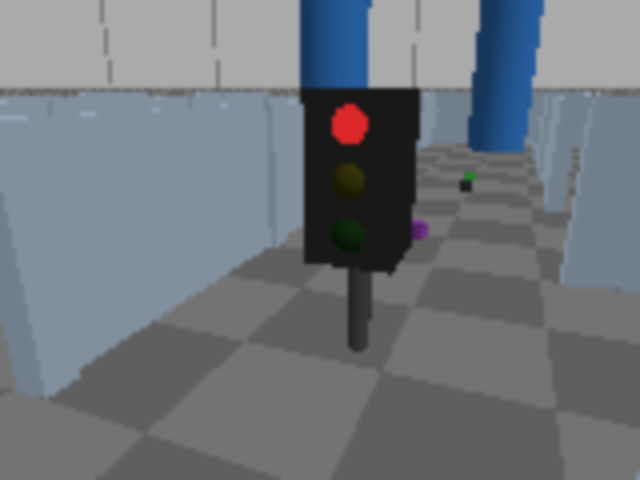puck: (408, 221, 428, 241)
traffic_light: (302, 70, 422, 375)
